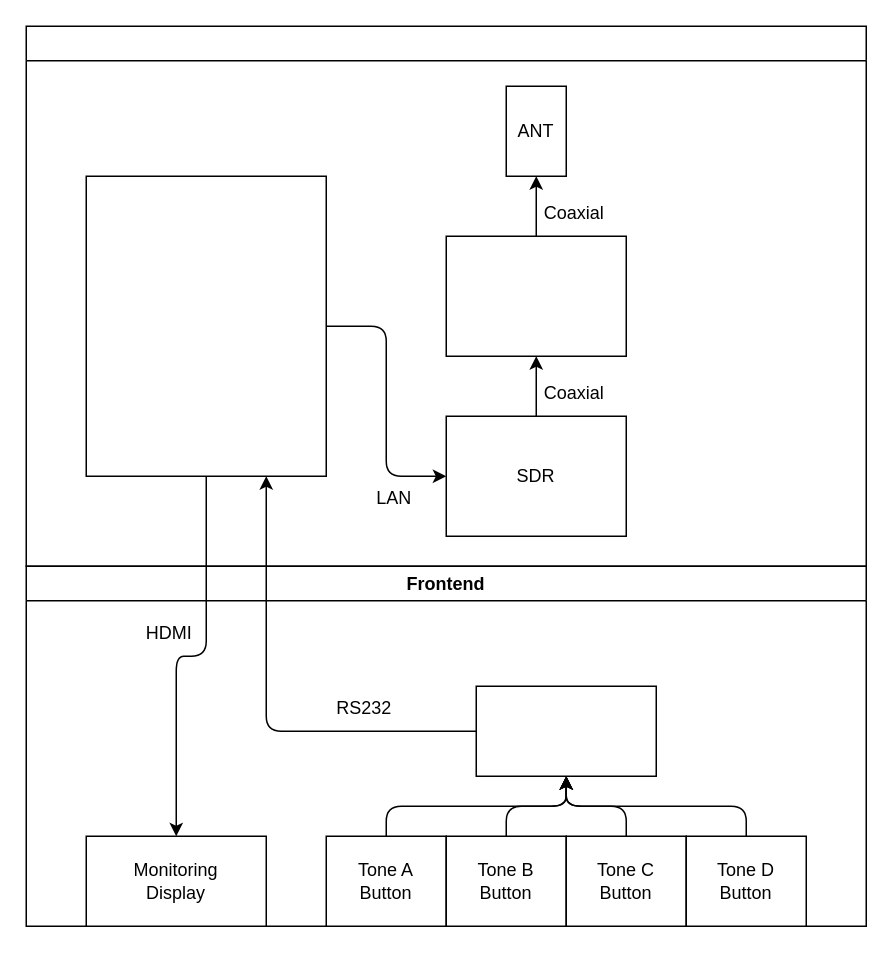
The diagram is 893 pixels wide and 953 high, and some of its shapes have lost their labels. Each missing label, with the box of its shape:
Amplifier: (445, 235, 626, 356)
Backend: (25, 25, 866, 566)
Button Interface Board: (475, 685, 656, 776)
Host PC: (85, 175, 326, 476)
